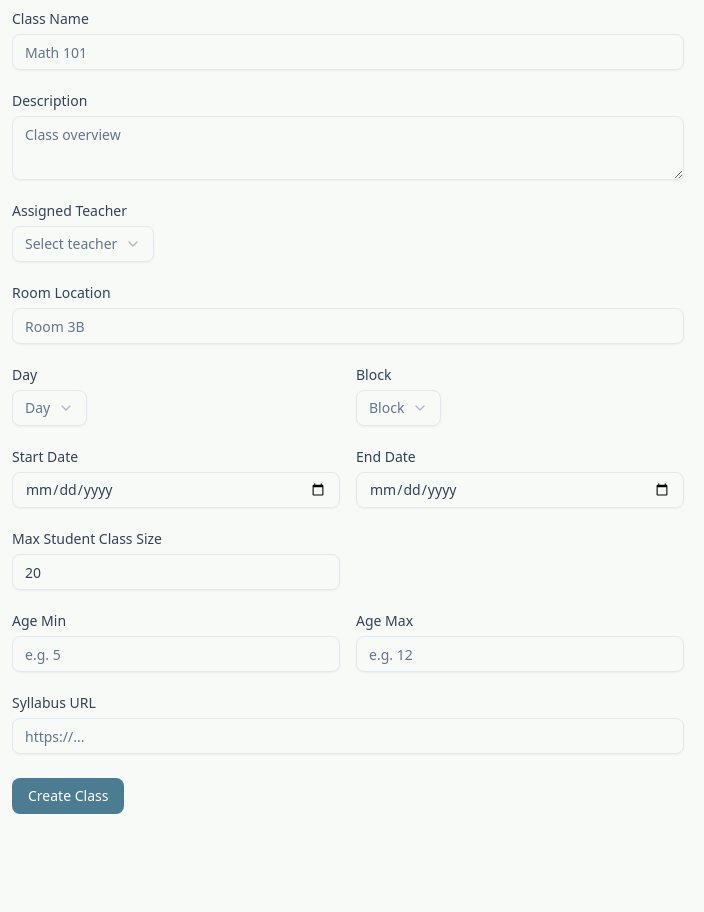
Test case: SchedulerClassForm › validates age_min must be less than or equal to age_max
This screenshot has width=704, height=912.
# Fill required fields
Type "Test Class" into the field with test id "class-name-input". click: (348, 52)
box: [12, 34, 684, 70]
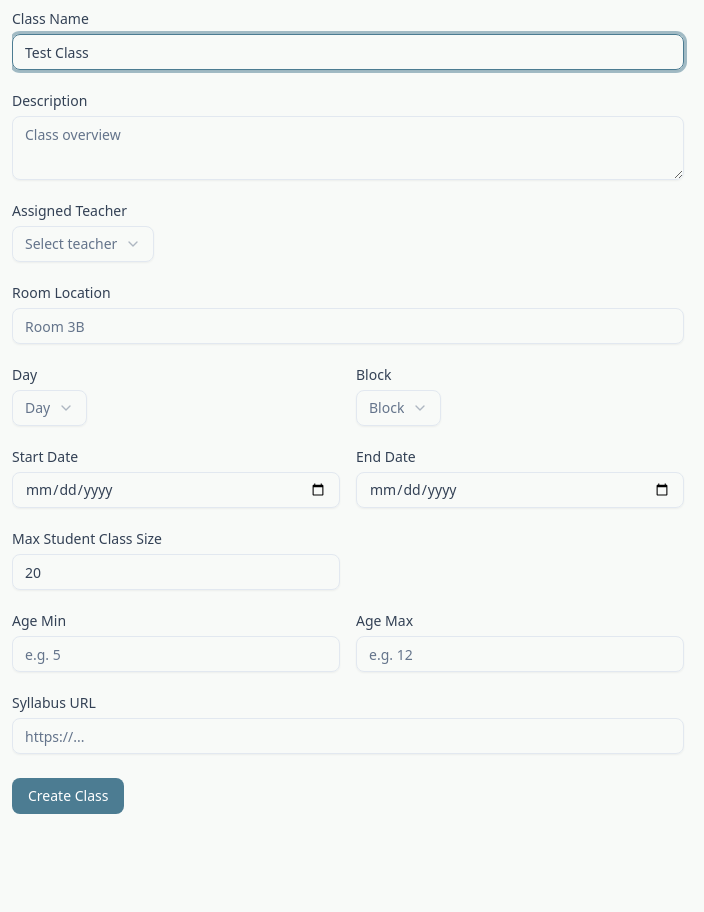
# Set age_min greater than age_max
Type "12" into the number field with test id "age-min-input". click: (176, 654)
box: [12, 636, 340, 672]
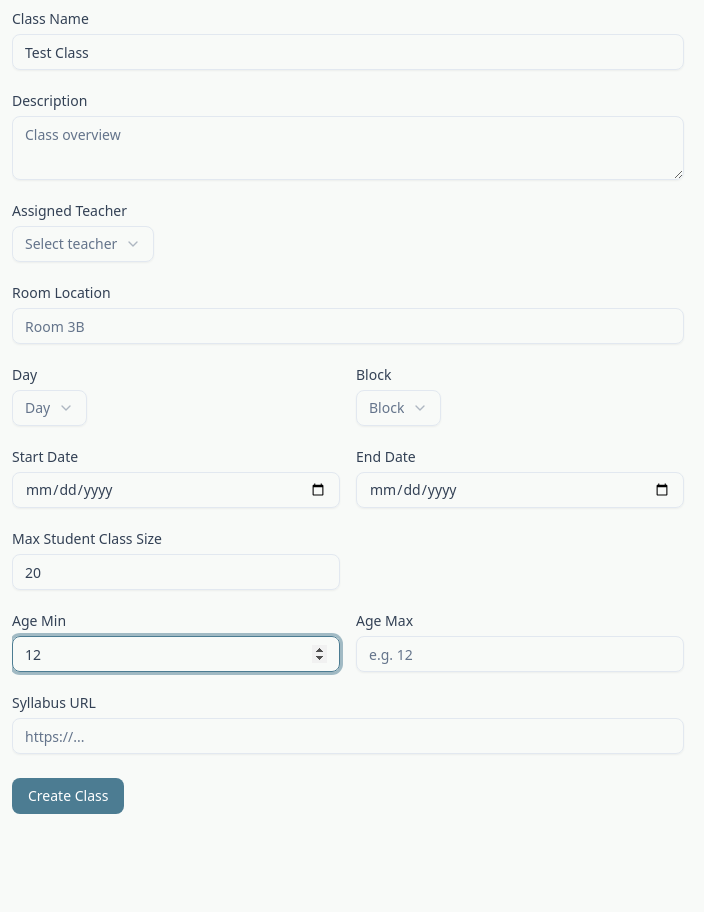
Type "8" into the number field with test id "age-max-input". click: (520, 654)
box: [356, 636, 684, 672]
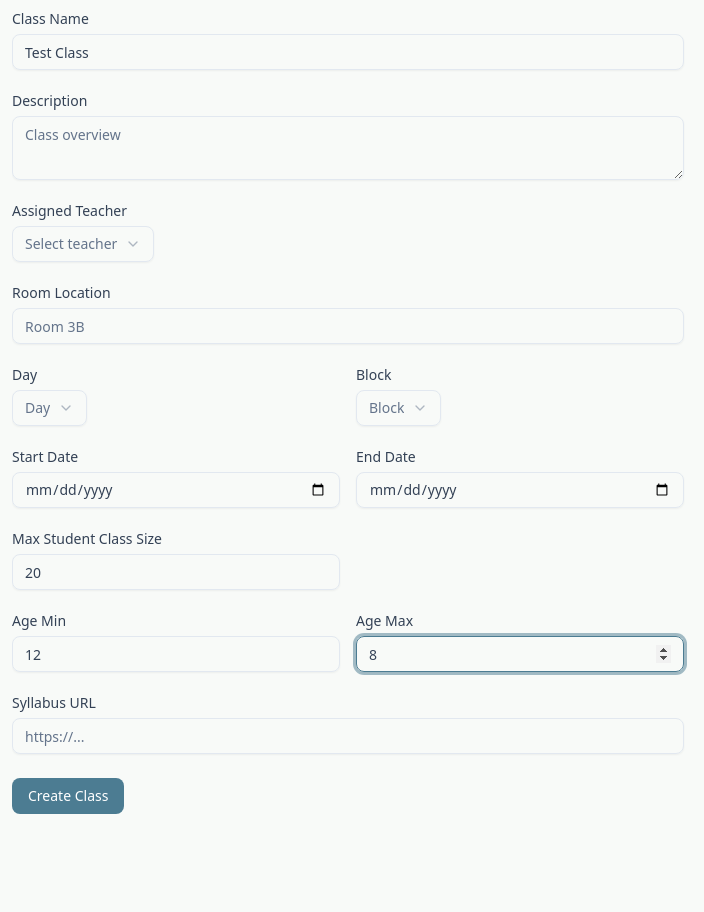
Click the button with test id "scheduler-submit-button". click: (68, 796)
box: [12, 778, 124, 814]
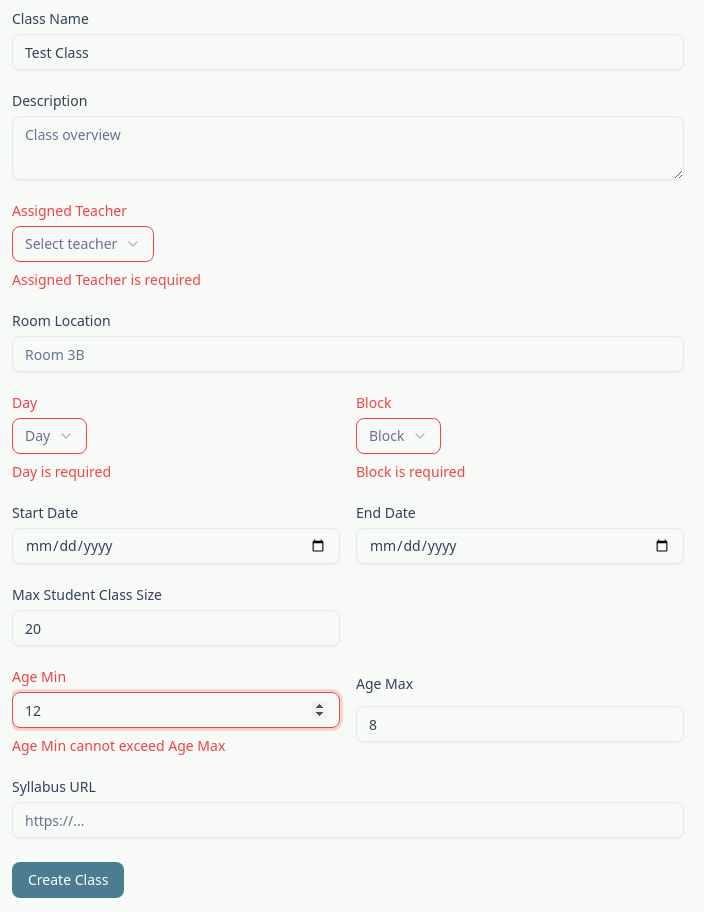
Check: the text "Age Min cannot exceed Age Max" is shown, box [12, 736, 225, 755]
